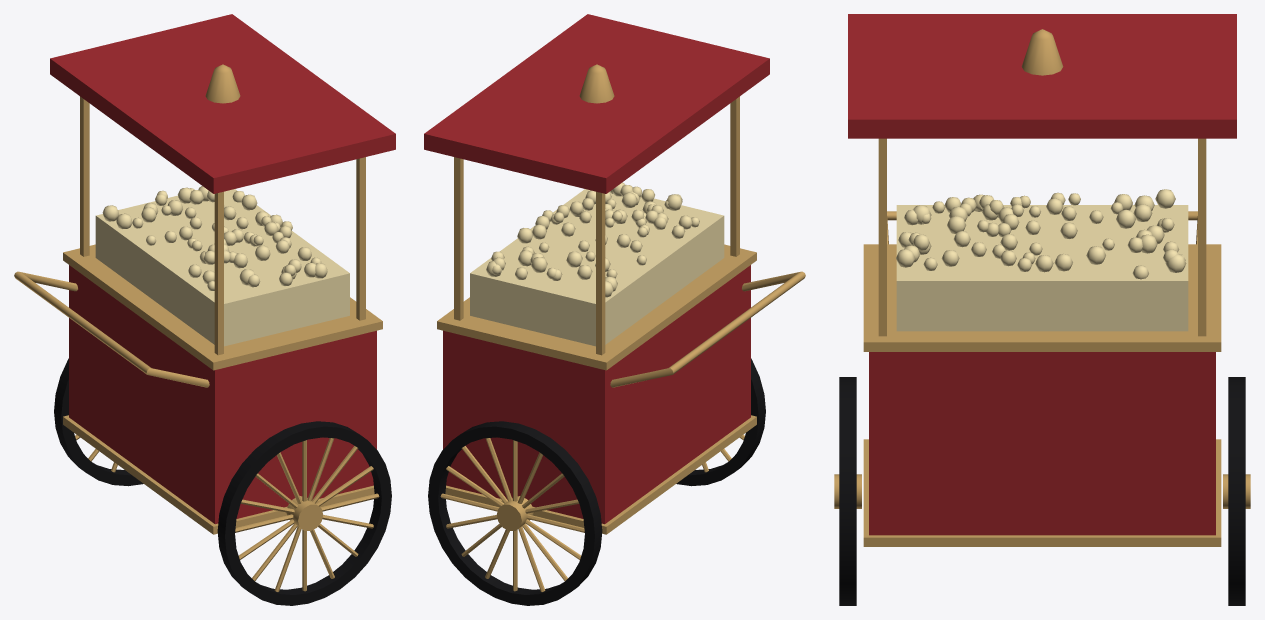
The model's file is popcorn_cart.glb.
3 views of the same model, side by side, from view 1: azimuth 30°, elevation 25°; view 2: azimuth 150°, elevation 25°; view 3: azimuth 270°, elevation 25° (orthographic). The views are drawn at different scales.
Visible parts, largest first — view 1: Body_LOD0, Roof_LOD0, Corn_LOD0, Wheel_LOD0, Trim_LOD0, Kernels_LOD0, Trim_LOD0.001, Handle_LOD0, Wheel_LOD0.001, Post_LOD0, Post_LOD0.002, Post_LOD0.001 (+9 smaller); view 2: Body_LOD0, Roof_LOD0, Corn_LOD0, Wheel_LOD0.001, Trim_LOD0, Kernels_LOD0, Trim_LOD0.001, Handle_LOD0, Wheel_LOD0, Post_LOD0.001, Post_LOD0.003, Post_LOD0 (+9 smaller); view 3: Body_LOD0, Roof_LOD0, Corn_LOD0, Trim_LOD0, Kernels_LOD0, Trim_LOD0.001, Wheel_LOD0, Wheel_LOD0.001, Post_LOD0.002, Post_LOD0.003, Finial_LOD0.
Boxes of the visible parts, box(x1,y1,x2,y2) form: Body_LOD0: box(69, 265, 376, 524); Roof_LOD0: box(50, 14, 395, 193); Corn_LOD0: box(95, 189, 349, 346); Wheel_LOD0: box(217, 421, 391, 605); Trim_LOD0: box(63, 244, 382, 370); Kernels_LOD0: box(102, 186, 327, 290); Trim_LOD0.001: box(63, 415, 374, 534); Handle_LOD0: box(14, 271, 209, 387); Wheel_LOD0.001: box(54, 358, 143, 486); Post_LOD0: box(214, 191, 223, 355); Post_LOD0.002: box(356, 157, 365, 320); Post_LOD0.001: box(80, 96, 89, 256); Body_LOD0: box(443, 265, 750, 524); Roof_LOD0: box(424, 14, 769, 193); Corn_LOD0: box(470, 189, 724, 346); Wheel_LOD0.001: box(428, 421, 602, 605); Trim_LOD0: box(437, 244, 756, 370); Kernels_LOD0: box(486, 182, 699, 297); Trim_LOD0.001: box(445, 415, 756, 534); Handle_LOD0: box(610, 271, 805, 387); Wheel_LOD0: box(676, 358, 765, 486); Post_LOD0.001: box(596, 191, 605, 355); Post_LOD0.003: box(454, 157, 463, 320); Post_LOD0: box(730, 96, 739, 256); Body_LOD0: box(869, 352, 1215, 535); Roof_LOD0: box(848, 14, 1236, 138); Corn_LOD0: box(896, 205, 1188, 331); Trim_LOD0: box(863, 244, 1221, 351); Kernels_LOD0: box(896, 189, 1186, 279); Trim_LOD0.001: box(863, 439, 1221, 546); Wheel_LOD0: box(839, 377, 856, 605); Wheel_LOD0.001: box(1228, 377, 1245, 605); Post_LOD0.002: box(878, 138, 886, 336); Post_LOD0.003: box(1198, 138, 1206, 336); Finial_LOD0: box(1021, 29, 1063, 75).
Bounding box in the file's own units: 0.9236 × 1.8 × 1.2.
